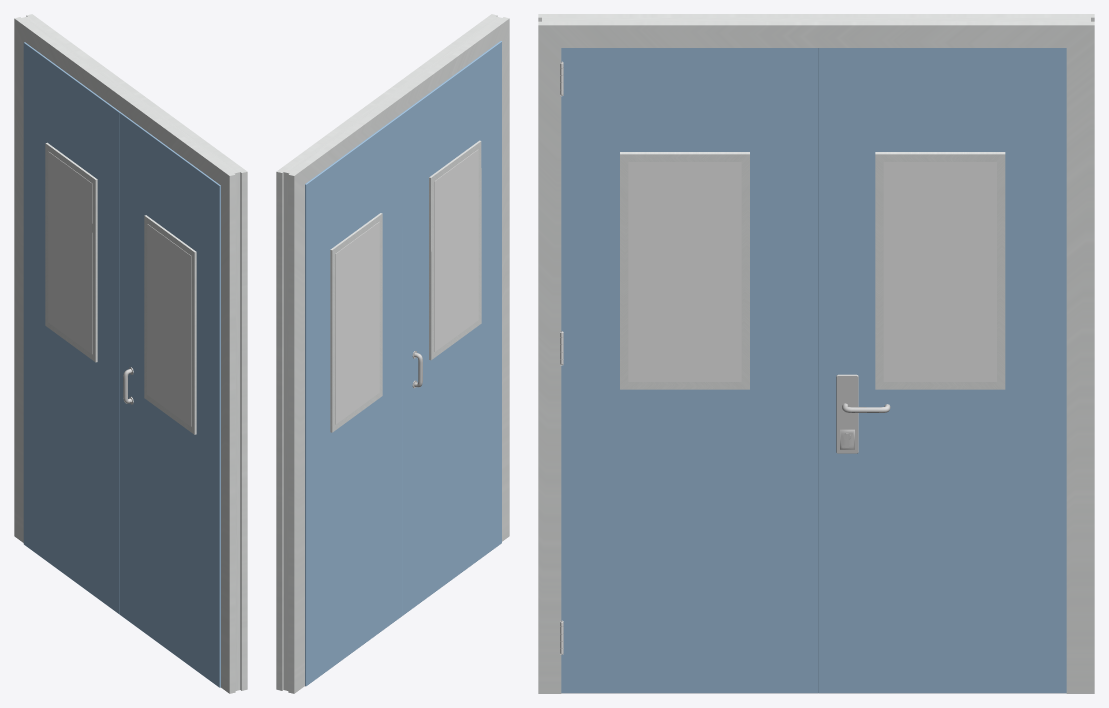
File: blue_doors_scientific.fbx
3 views of the same model, side by side, from view 1: azimuth 30°, elevation 25°; view 2: azimuth 150°, elevation 25°; view 3: azimuth 270°, elevation 25° (orthographic). The views are drawn at different scales.
Parts seen in each view (by area): view 1: DOOR_2.001, DOOR_1.001, pCube1.001, Plane001.002, Plane002.001; view 2: DOOR_2.001, DOOR_1.001, pCube1.001, Plane002.001, Plane001.002; view 3: DOOR_2.001, DOOR_1.001, pCube1.001, Plane001.002, Plane002.001, KITBASH_DOOS_STOPPER:pCube8.
Boxes of the visible parts, bbox=[...] form: DOOR_2.001: bbox=[120, 112, 220, 687]; DOOR_1.001: bbox=[23, 42, 120, 614]; pCube1.001: bbox=[14, 14, 247, 693]; Plane001.002: bbox=[45, 142, 97, 362]; Plane002.001: bbox=[144, 215, 196, 434]; DOOR_2.001: bbox=[401, 41, 501, 615]; DOOR_1.001: bbox=[305, 114, 402, 686]; pCube1.001: bbox=[276, 14, 509, 693]; Plane002.001: bbox=[429, 140, 481, 360]; Plane001.002: bbox=[330, 213, 382, 432]; DOOR_2.001: bbox=[561, 48, 818, 693]; DOOR_1.001: bbox=[818, 48, 1066, 693]; pCube1.001: bbox=[538, 14, 1094, 693]; Plane001.002: bbox=[875, 152, 1005, 389]; Plane002.001: bbox=[620, 152, 749, 389]; KITBASH_DOOS_STOPPER:pCube8: bbox=[836, 374, 858, 453].
Size of the model in its own units: 18.11 by 247 by 186.
